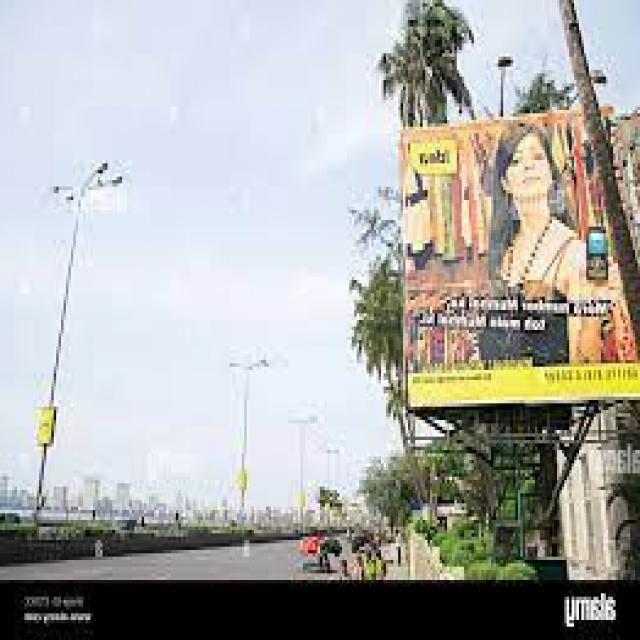Werbetafel frei: (408, 108, 640, 407)
